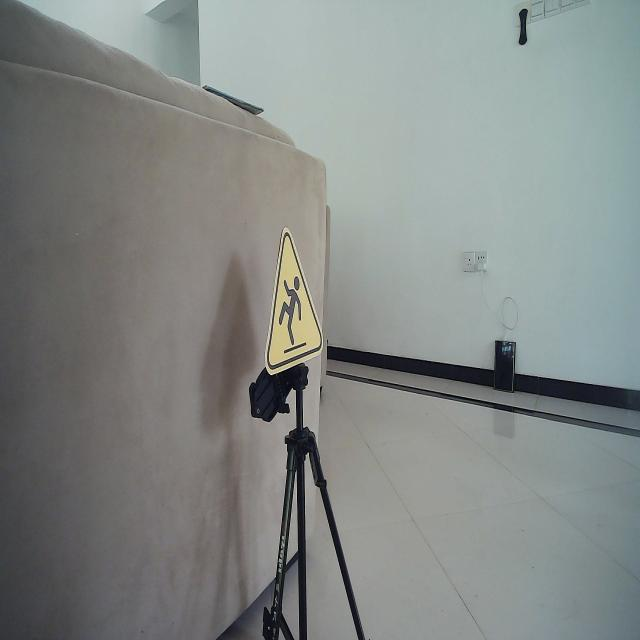slippery_sign: (264, 224, 325, 378)
